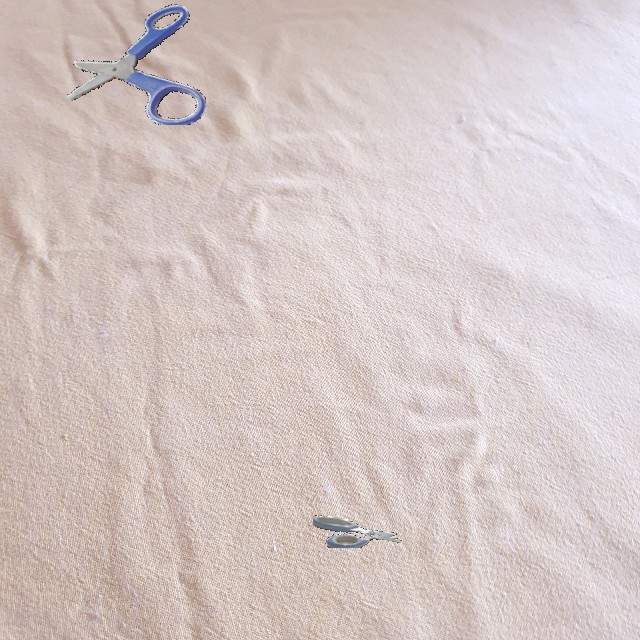scissors: (67, 4, 206, 125), (313, 515, 402, 548)
